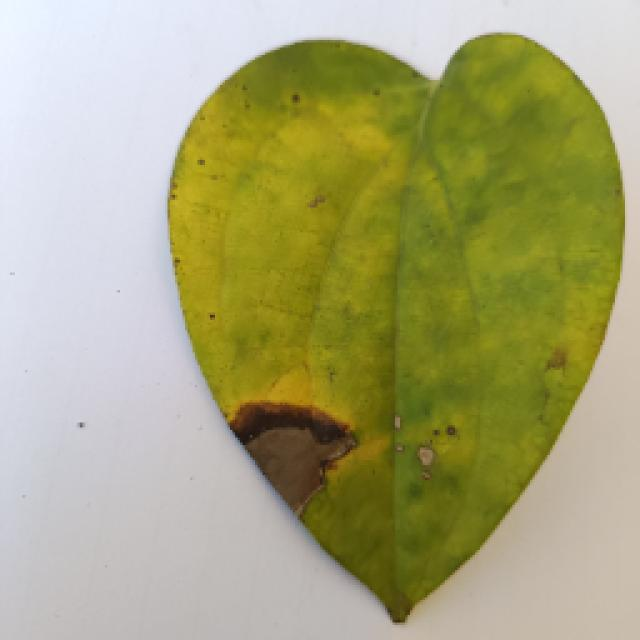slow-decline: (135, 45, 620, 633)
